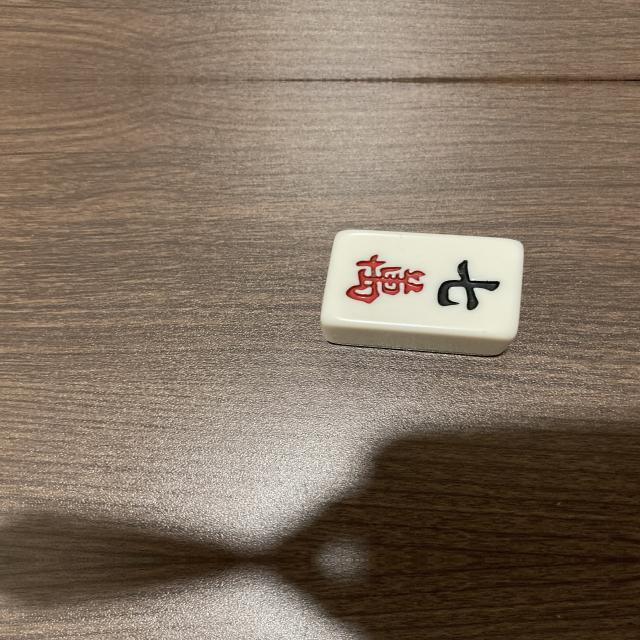m7: (330, 240, 513, 330)
